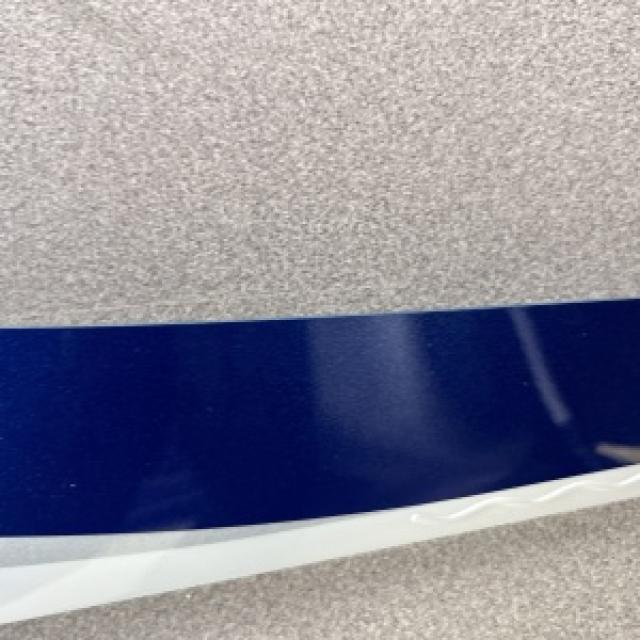healthy: (0, 0, 638, 324), (0, 497, 638, 638)
